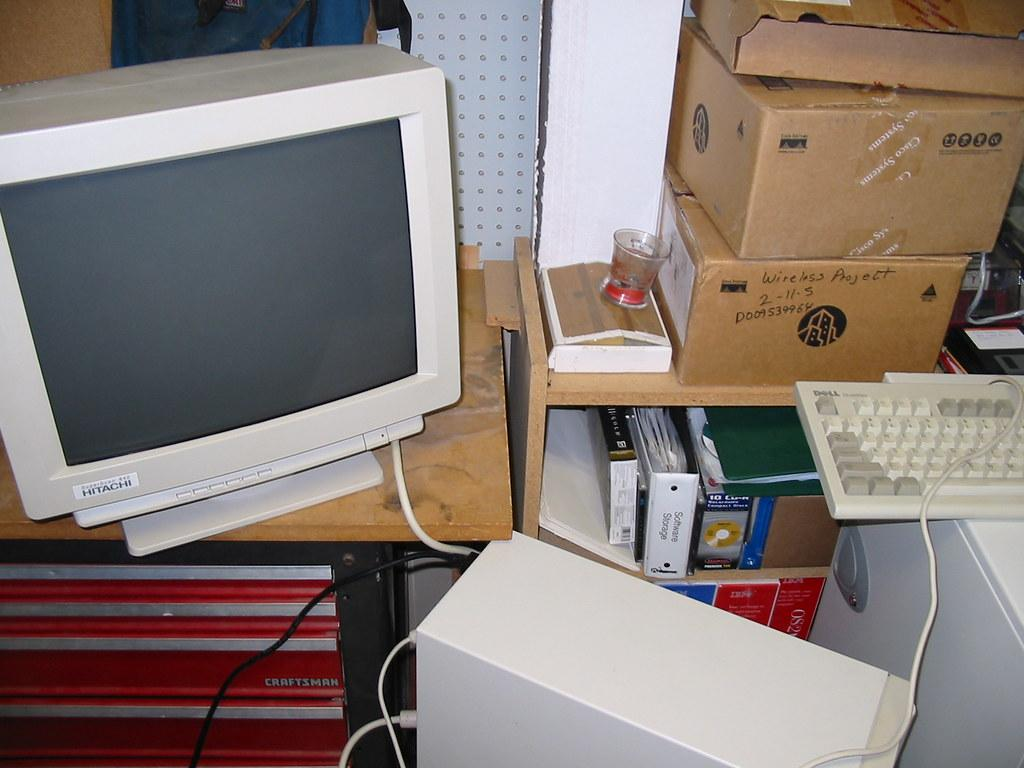computer: (1, 43, 463, 557)
